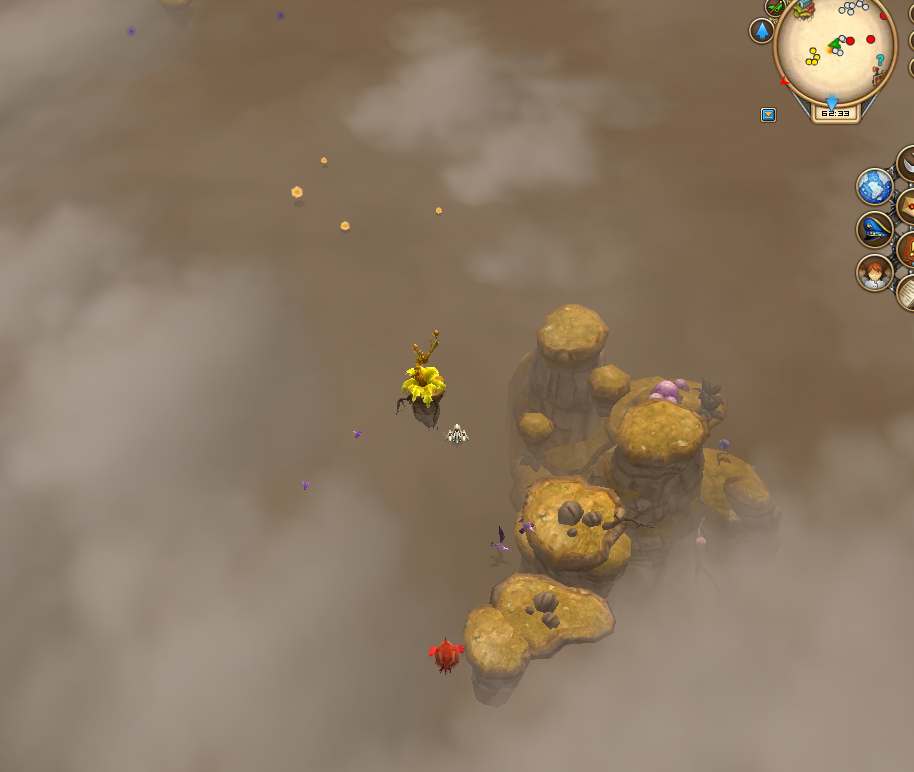dandelion-empty: (393, 323, 451, 431)
fluff: (288, 182, 307, 201), (337, 217, 354, 234), (430, 201, 447, 217), (317, 152, 331, 166)
